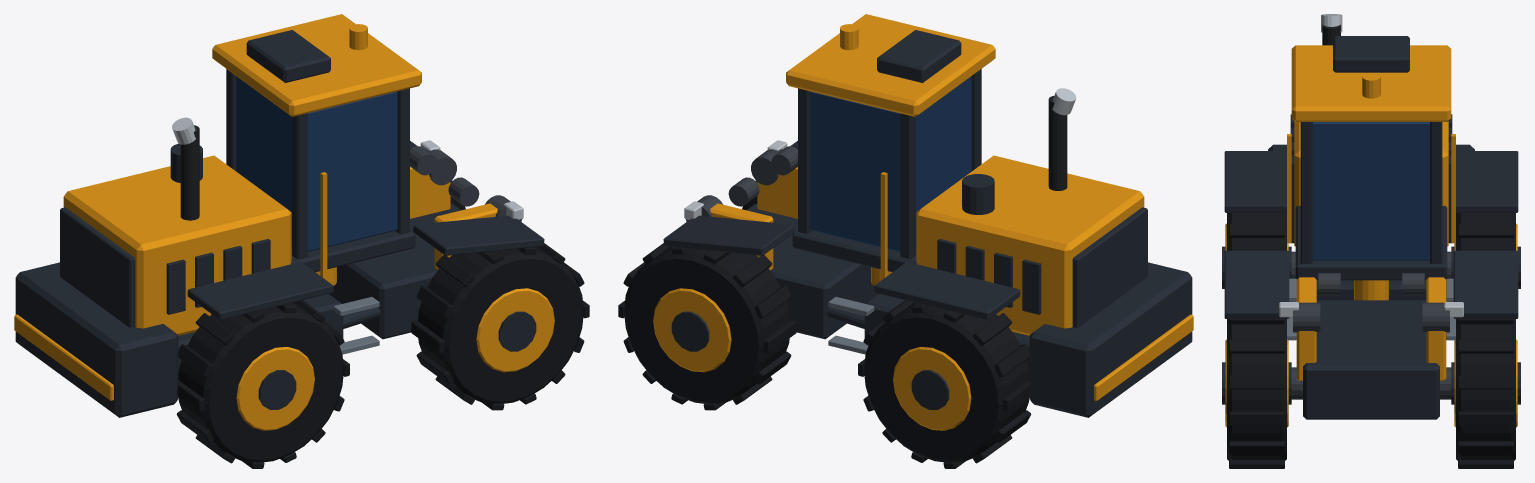
File: wheel_loader_chassis.glb
The picture shows the model from 3 angles, left to right: view 1: azimuth 30°, elevation 25°; view 2: azimuth 150°, elevation 25°; view 3: azimuth 270°, elevation 25°; orthographic projection.
Visible parts, largest first — view 1: WL_AirPreCleaner; view 2: WL_AirPreCleaner; view 3: WL_AirPreCleaner.
Boxes of the visible parts, x1,y1,x2,y2 form: WL_AirPreCleaner: (14, 14, 589, 468); WL_AirPreCleaner: (618, 14, 1193, 468); WL_AirPreCleaner: (1222, 14, 1520, 468).
Bounding box in the file's own units: 4.18 × 3.05 × 2.4.
Materials: 1 (1 with a texture image).
